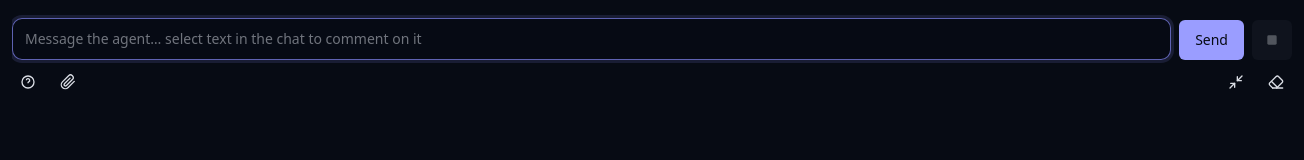
Test: a stale response is ignored and the older fetch is aborted
Type "@a" into the text box. click: (592, 39)
box: [12,18,1171,60]
Wait 100 ms
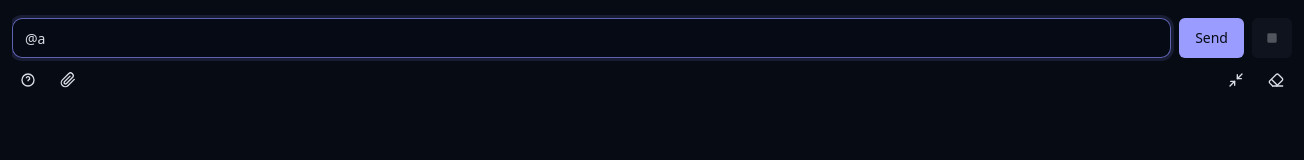
Replace the text in the text box with "@ap". click: (592, 38)
box: [12,18,1171,58]
Wait 100 ms
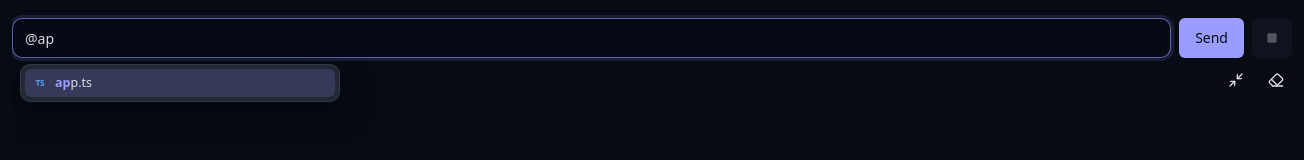
Result: the number of options is 1 at [25,69,335,97]
Result: the option reads "app.ts" at [25,69,335,97]
